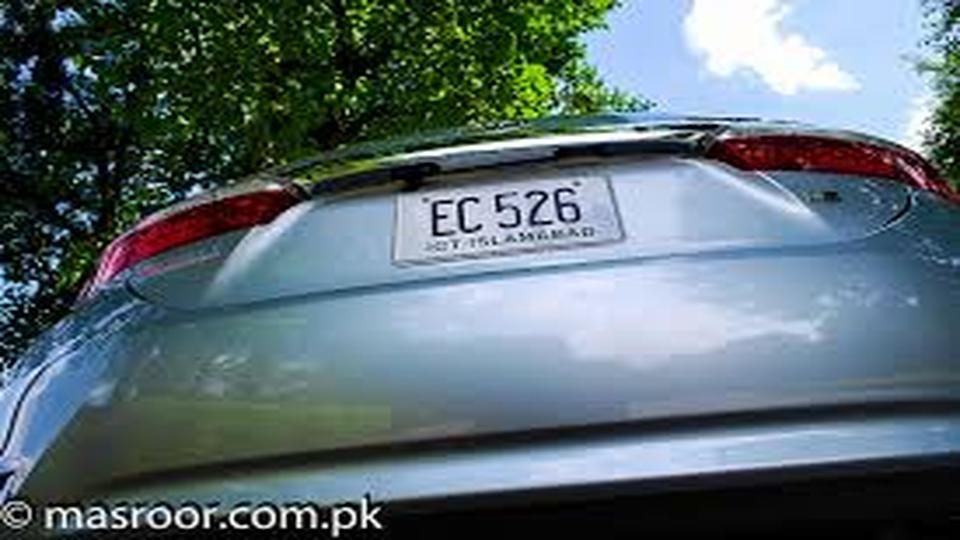NumberPlate: (384, 182, 623, 250)
